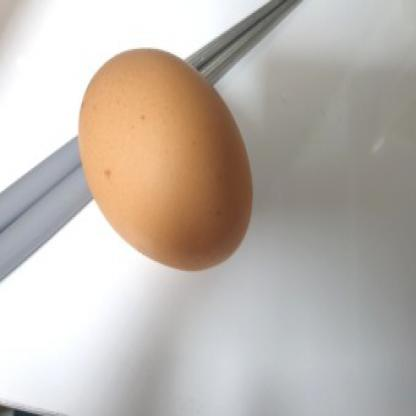egg: (79, 47, 254, 274)
